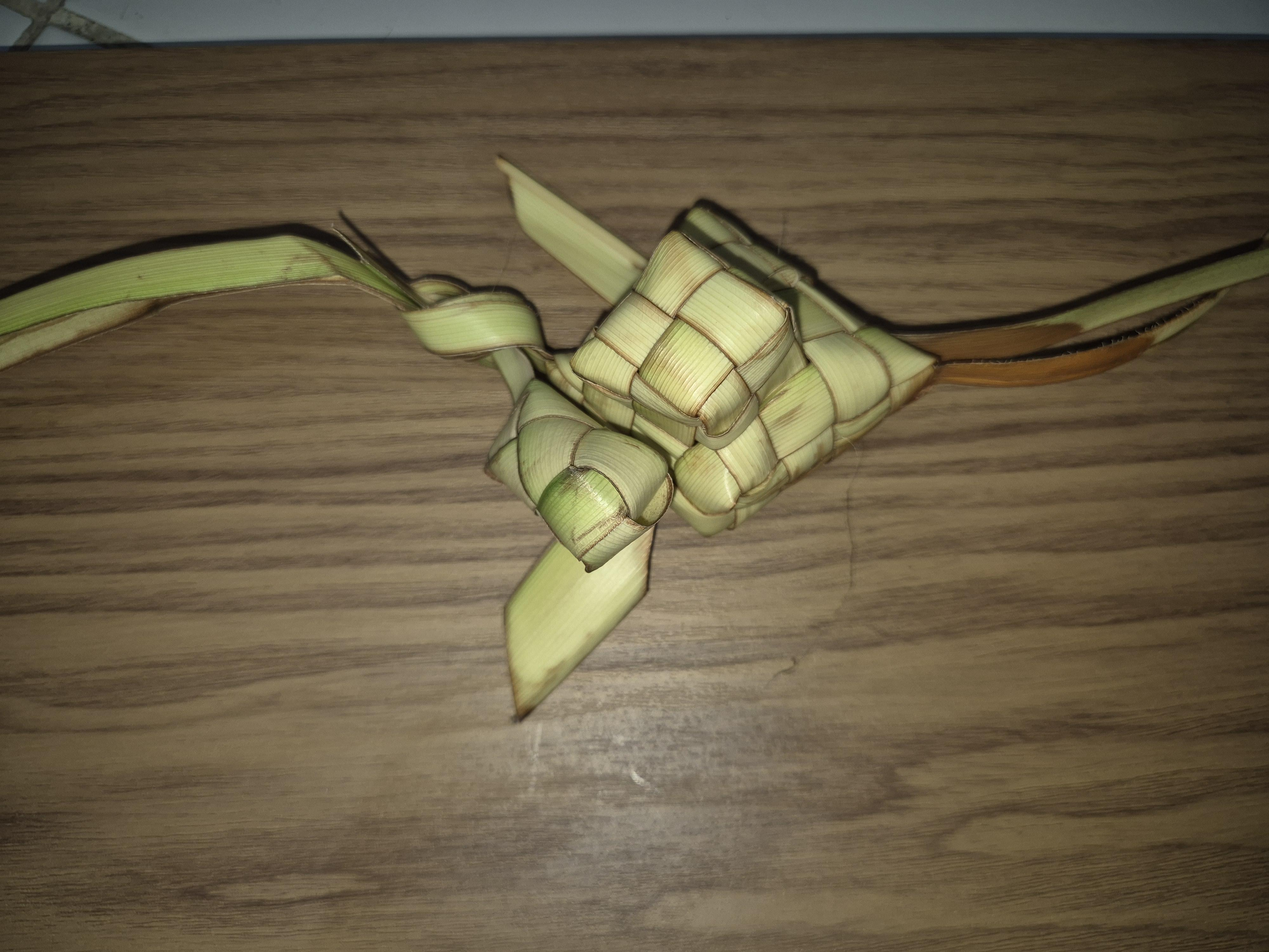Tipat Gong: (556, 429, 992, 701)
